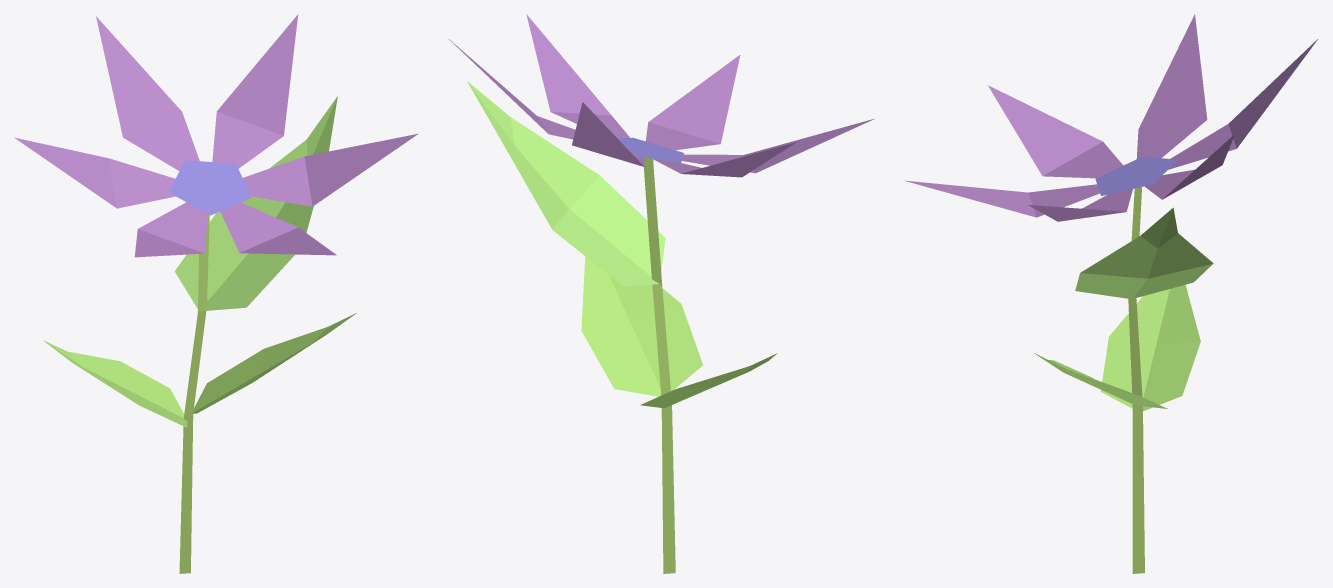
The model's file is Flower_b_TwoS_08.fbx.
The picture shows the model from 3 angles, left to right: view 1: azimuth 30°, elevation 25°; view 2: azimuth 150°, elevation 25°; view 3: azimuth 270°, elevation 25°; orthographic projection. The views are drawn at different scales.
Visible parts, largest first — view 1: Flower_b_TwoS_08; view 2: Flower_b_TwoS_08; view 3: Flower_b_TwoS_08.
Part boxes in pixels (bbox=[...]): Flower_b_TwoS_08: bbox=[14, 14, 418, 573]; Flower_b_TwoS_08: bbox=[449, 14, 874, 573]; Flower_b_TwoS_08: bbox=[905, 14, 1317, 573].
Size of the model in its own units: 0.3651 by 0.5292 by 0.3741.
